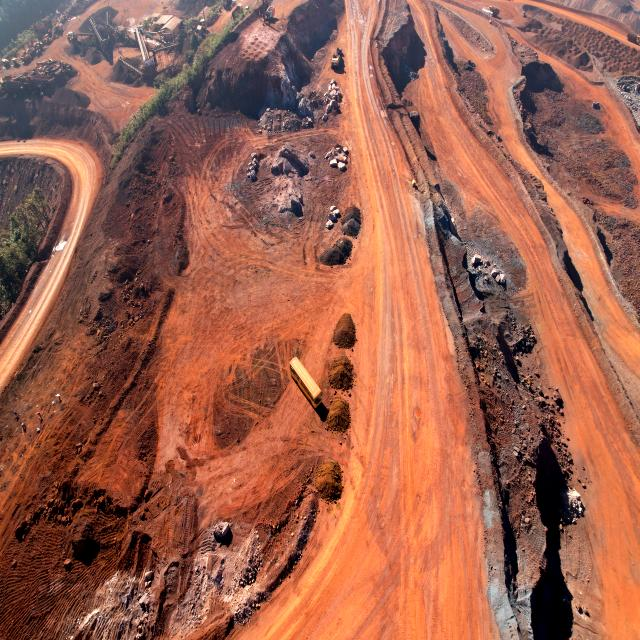Blast rig: (260, 0, 275, 23)
Dumper truck: (482, 6, 501, 16), (630, 31, 640, 43), (233, 5, 243, 17), (488, 6, 499, 16), (223, 0, 235, 7), (231, 1, 241, 9)
Excavator: (331, 47, 345, 70)
